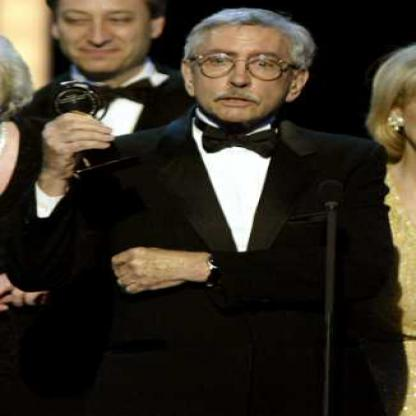face: (192, 13, 296, 123), (58, 1, 153, 73)
